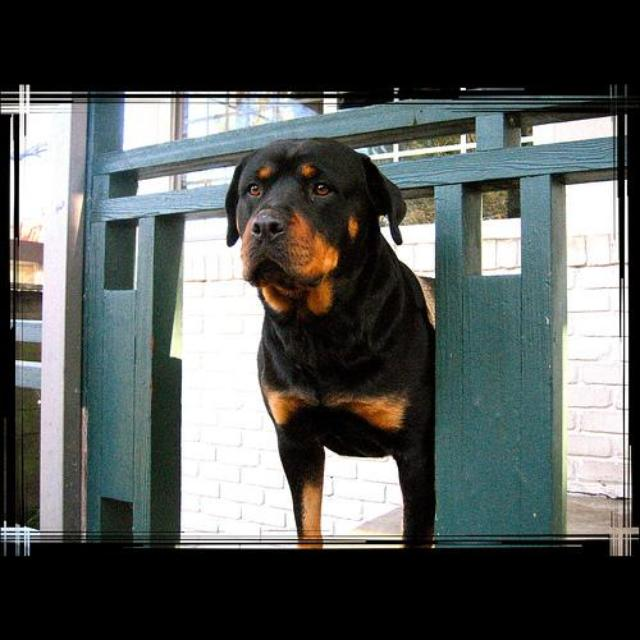rottweiler: (225, 135, 438, 547)
